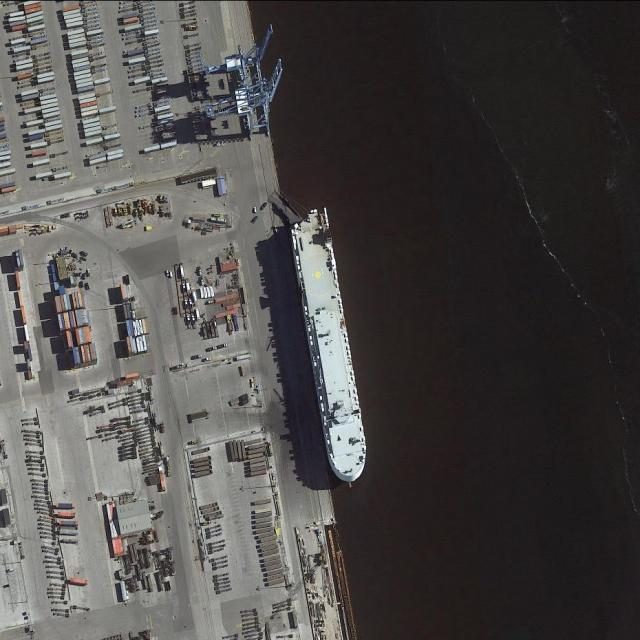RoRo: (285, 202, 377, 494)
